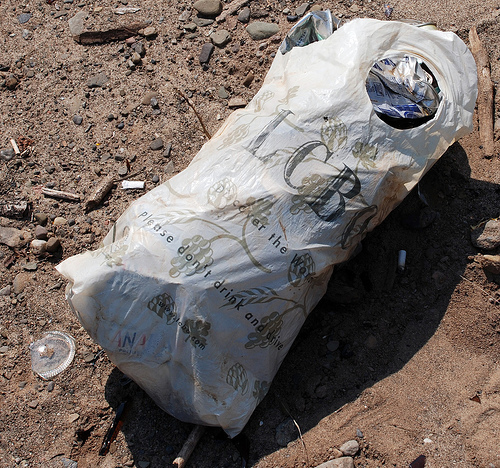litter: (52, 12, 474, 438), (25, 332, 76, 379)
